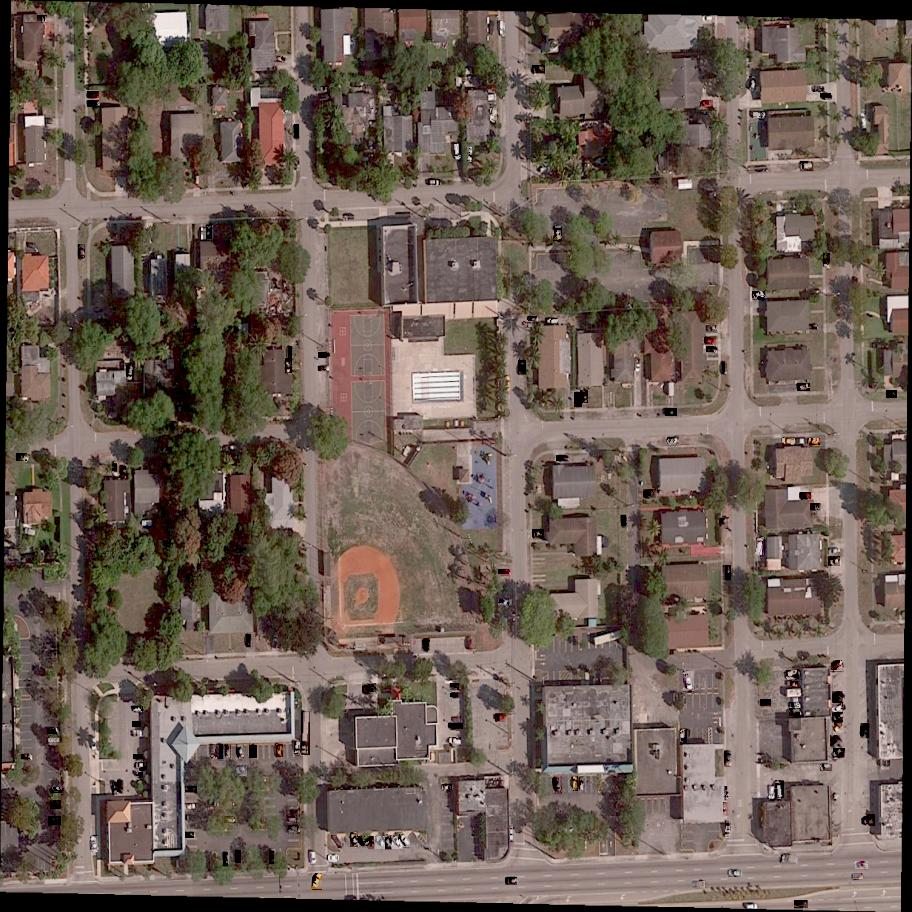large-vehicle: (756, 538, 766, 556), (801, 161, 815, 172), (782, 855, 797, 865), (752, 111, 764, 119)
small-vehicle: (302, 711, 311, 755), (684, 671, 695, 692), (312, 873, 324, 890), (552, 776, 563, 794), (374, 836, 388, 850), (398, 834, 411, 849), (862, 814, 877, 827), (774, 781, 784, 799), (860, 723, 871, 739), (392, 837, 405, 850), (830, 736, 843, 749), (832, 692, 845, 705), (363, 684, 378, 695), (357, 836, 370, 848), (331, 836, 343, 849), (235, 766, 249, 777), (831, 703, 845, 714), (350, 833, 360, 848), (90, 836, 99, 852), (831, 661, 843, 673), (832, 713, 845, 724), (236, 744, 245, 759), (553, 226, 562, 241), (422, 638, 431, 653), (719, 518, 730, 530), (495, 713, 508, 723), (833, 749, 846, 759), (787, 670, 800, 680), (126, 365, 134, 381), (249, 745, 258, 759), (48, 816, 62, 825), (794, 901, 808, 910), (855, 862, 869, 871), (832, 722, 843, 733), (518, 360, 526, 375), (680, 729, 688, 744), (829, 557, 841, 567), (575, 392, 583, 407), (449, 737, 462, 746), (532, 66, 545, 75), (532, 530, 545, 539), (288, 825, 301, 834), (665, 408, 678, 417), (704, 337, 717, 346), (797, 382, 810, 391), (454, 144, 462, 158), (466, 637, 474, 651), (749, 76, 757, 90), (580, 390, 588, 404), (50, 800, 62, 809), (490, 109, 499, 121), (26, 243, 38, 252), (789, 708, 801, 717), (769, 785, 776, 800), (211, 745, 219, 758), (385, 836, 393, 849), (752, 292, 765, 300), (16, 453, 27, 462), (225, 745, 232, 759), (723, 802, 730, 816), (861, 113, 868, 127), (725, 565, 732, 579), (286, 358, 292, 374), (828, 547, 840, 555), (505, 877, 517, 885), (706, 325, 718, 333), (368, 837, 375, 850), (78, 245, 85, 258), (120, 466, 127, 479), (328, 854, 338, 863), (207, 225, 213, 240), (825, 253, 831, 268), (887, 391, 897, 400), (88, 100, 99, 108), (810, 503, 821, 511), (810, 511, 821, 519), (224, 816, 235, 824), (286, 809, 297, 817), (812, 85, 823, 93), (644, 489, 655, 497), (117, 781, 124, 793), (185, 786, 197, 793), (294, 125, 300, 139), (580, 778, 586, 792), (700, 101, 712, 108), (270, 850, 276, 864), (277, 744, 283, 757), (310, 852, 316, 865), (246, 635, 252, 648), (692, 882, 705, 888), (88, 91, 99, 98), (522, 321, 533, 328), (723, 786, 730, 797), (760, 699, 771, 706), (667, 437, 678, 444), (782, 438, 793, 445), (725, 752, 730, 767), (113, 782, 119, 794), (135, 763, 147, 769), (728, 870, 740, 876), (185, 832, 195, 839), (185, 804, 195, 811), (448, 723, 462, 728), (821, 94, 831, 101), (429, 179, 440, 185), (821, 765, 832, 771), (799, 492, 810, 498), (556, 455, 567, 461), (295, 742, 300, 755), (318, 352, 328, 358), (833, 793, 838, 805), (853, 873, 863, 879), (236, 851, 241, 863), (224, 852, 228, 866), (621, 515, 626, 526), (451, 716, 460, 722), (707, 346, 716, 352), (468, 147, 472, 160), (573, 777, 577, 790), (47, 728, 57, 733), (37, 16, 47, 21), (498, 600, 508, 605), (809, 439, 819, 444), (443, 784, 451, 790), (133, 706, 142, 711), (450, 684, 459, 689), (528, 316, 537, 321), (725, 822, 728, 837), (288, 347, 292, 358), (48, 738, 59, 742), (51, 788, 62, 792), (547, 318, 558, 322), (134, 754, 142, 759), (499, 569, 509, 573), (790, 681, 798, 686), (789, 703, 799, 707), (511, 828, 514, 841), (282, 111, 291, 115), (22, 755, 30, 759), (274, 57, 282, 61), (133, 722, 141, 726), (288, 819, 296, 823), (809, 325, 817, 329), (132, 731, 142, 734), (113, 464, 116, 474), (451, 693, 458, 697), (220, 744, 222, 758), (202, 227, 204, 241), (501, 21, 503, 34), (318, 367, 326, 370), (723, 363, 725, 374), (137, 773, 142, 776)
